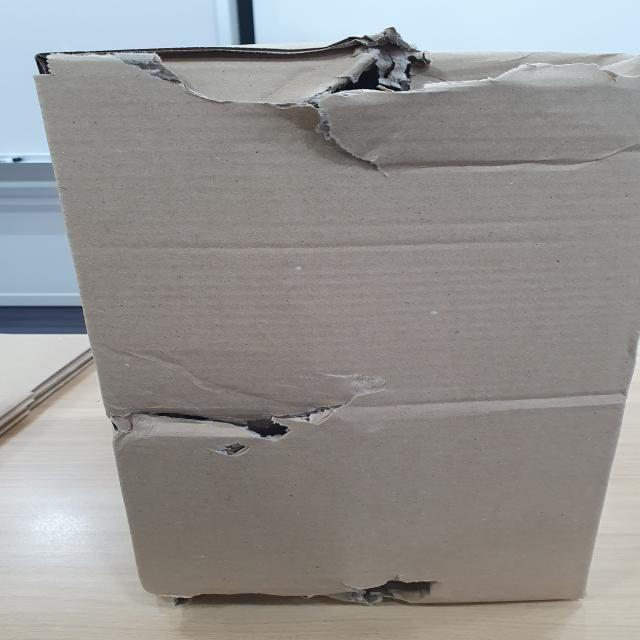hole: (151, 568, 457, 612), (165, 48, 438, 96), (148, 397, 348, 449)
